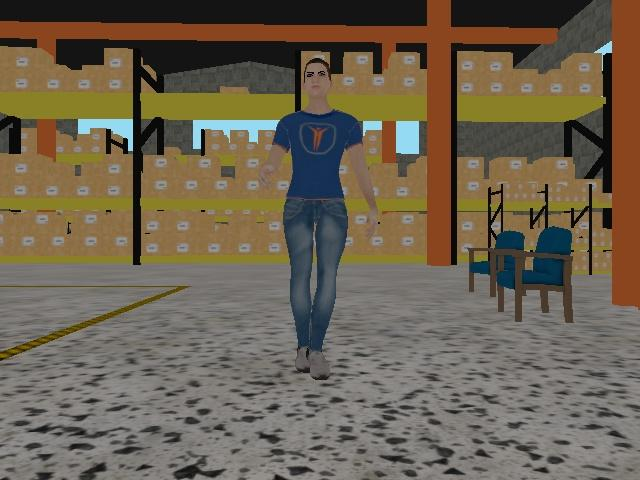chair: (496, 225, 577, 325), (467, 230, 525, 299)
person: (258, 56, 383, 383)
